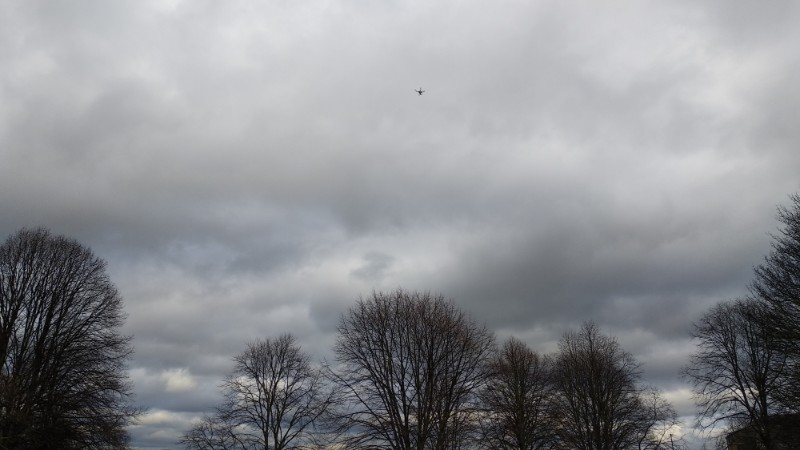drone: (416, 88, 426, 96)
